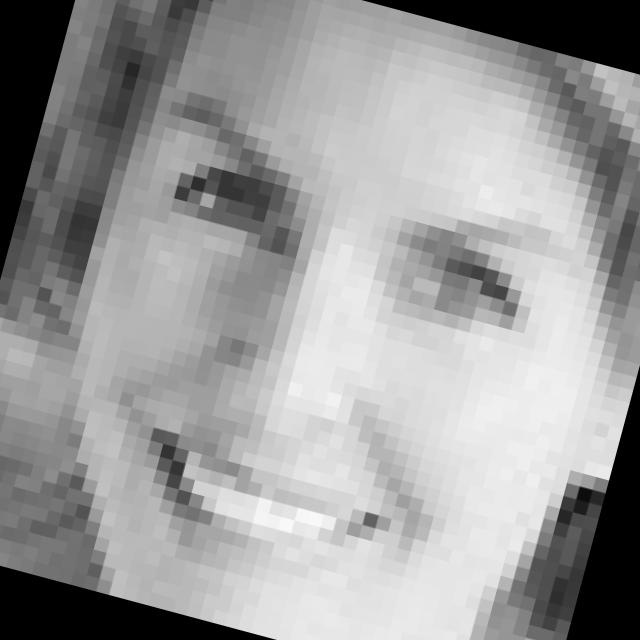happy: (51, 86, 598, 640)
